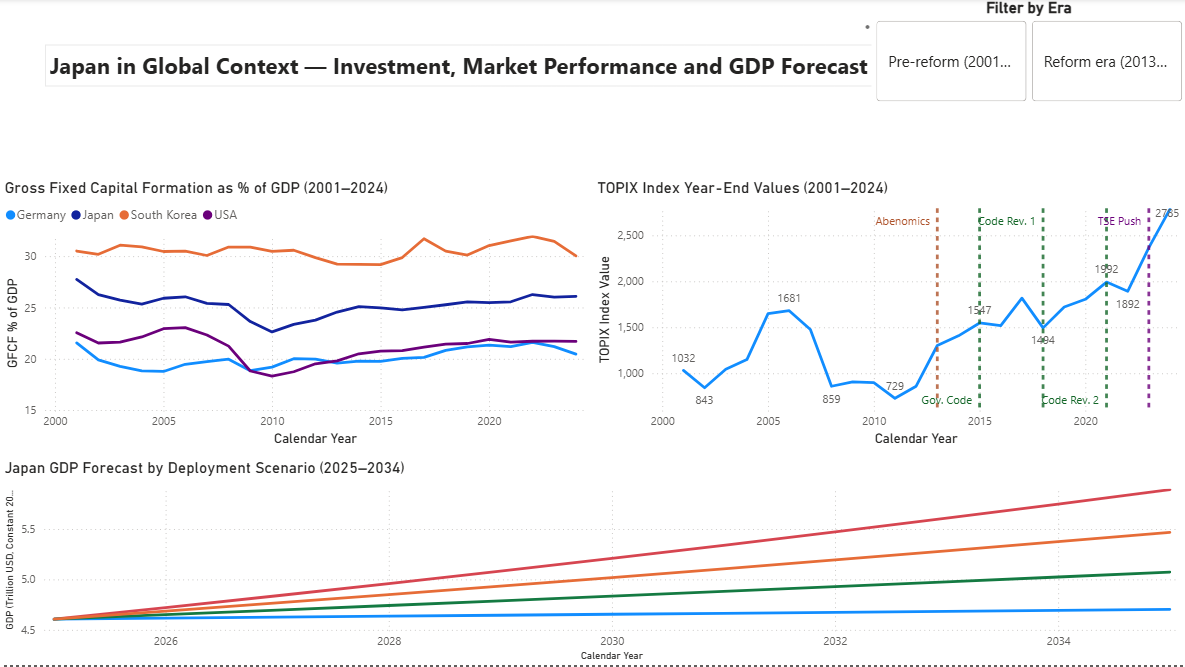

The page's visual inventory and layout, read from the dashboard file:
{"tool":"powerbi","page":{"name":"Global Context and Forecast","canvas":[1280,720],"ordinal":1},"visuals":[{"type":"textbox","box":[48,49.7,919.3,46.4],"z":0},{"type":"lineChart","title":"Gross Fixed Capital Formation as % of GDP (2001–2024)","fields":{"Category":["peer_comparison.Calendar_Year"],"Y":["Sum(peer_comparison.Germany_GFCF_Pct_GDP)","Sum(peer_comparison.Japan_GFCF_Pct_GDP)","Sum(peer_comparison.Korea_GFCF_Pct_GDP)","Sum(peer_comparison.USA_GFCF_Pct_GDP)"]},"box":[0,193.8,639.4,293.2],"z":1000},{"type":"lineChart","title":"TOPIX Index Year-End Values (2001–2024)","fields":{"Category":["japan_master.Calendar_Year"],"Y":["Sum(japan_master.TOPIX_Year_End)"]},"box":[639.4,193.8,641.1,293.2],"z":2000},{"type":"lineChart","title":"Japan GDP Forecast by Deployment Scenario (2025–2034)","fields":{"Category":["forecast_scenarios.Year"],"Y":["Sum(forecast_scenarios.Scenario_GDP_Trillion_USD)"],"Series":["forecast_scenarios.Scenario"]},"box":[0,496.9,1280.5,223.6],"z":3000},{"type":"advancedSlicerVisual","title":"Filter by Era","fields":{"Values":["japan_master.Era"]},"box":[940,0,340,116.6],"z":4000}]}

Visuals, with their boxes in screenshot pixels (x1, y1, x2, y2), scaled from the page's 1280x720 canvas onto the 1185x667 screenshot:
textbox: x1=44, y1=46, x2=896, y2=89
"Gross Fixed Capital Formation as % of GDP (2001–2024)" lineChart: x1=0, y1=180, x2=592, y2=451
"TOPIX Index Year-End Values (2001–2024)" lineChart: x1=592, y1=180, x2=1184, y2=451
"Japan GDP Forecast by Deployment Scenario (2025–2034)" lineChart: x1=0, y1=460, x2=1184, y2=666
"Filter by Era" advancedSlicerVisual: x1=870, y1=0, x2=1184, y2=108
